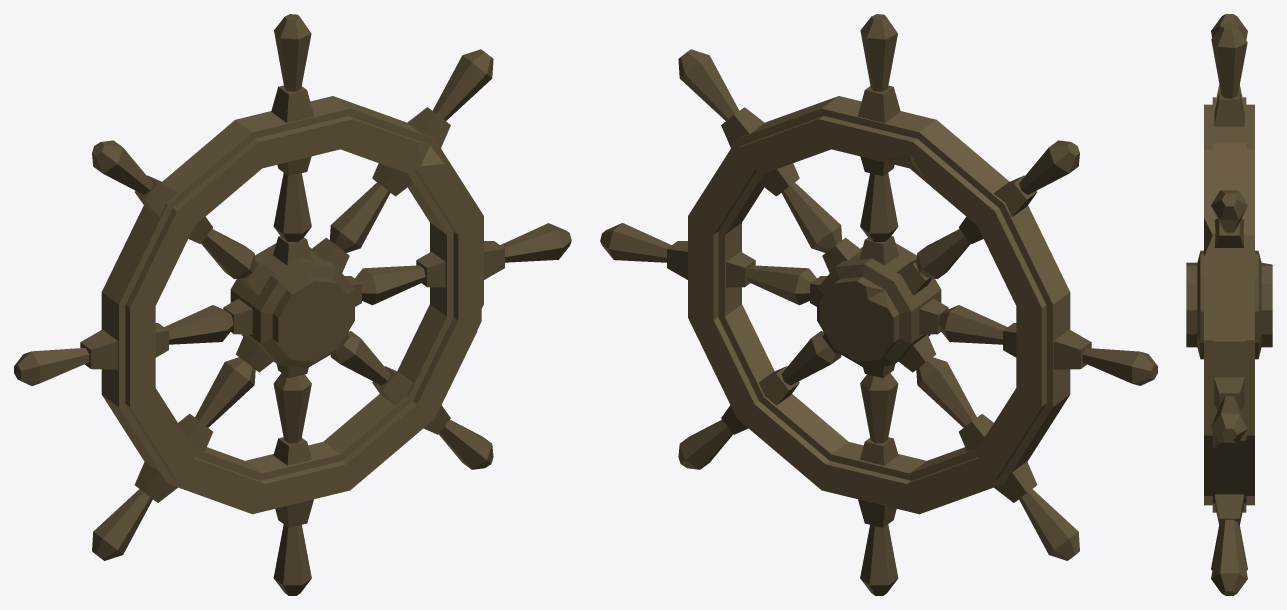
The model's file is LargeShip_1_ShipWheel.fbx.
3 renders of one model, left to right at view 1: azimuth 30°, elevation 25°; view 2: azimuth 150°, elevation 25°; view 3: azimuth 270°, elevation 25°, orthographic. The views are drawn at different scales.
Parts seen in each view (by area): view 1: LargeShip_1_ShipWheel; view 2: LargeShip_1_ShipWheel; view 3: LargeShip_1_ShipWheel.
Part boxes in pixels (x1,y1,x2,y2): LargeShip_1_ShipWheel: [14, 14, 571, 595]; LargeShip_1_ShipWheel: [600, 14, 1157, 595]; LargeShip_1_ShipWheel: [1186, 14, 1272, 595].
Size of the model in its own units: 154 by 154 by 21.67.
